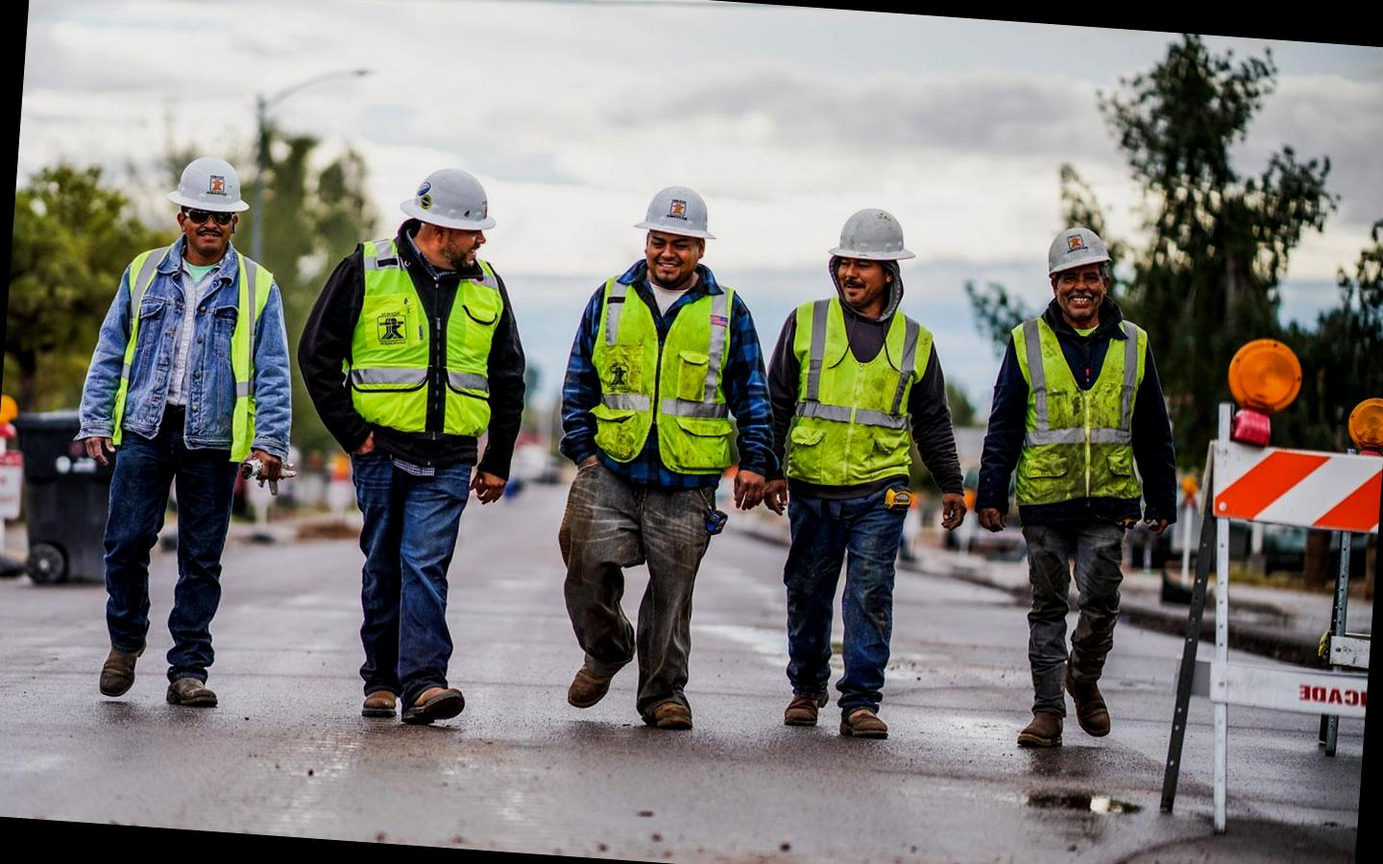helmet: (817, 203, 929, 290), (391, 174, 504, 259), (1026, 217, 1125, 300), (626, 186, 720, 262), (163, 159, 252, 232)
no_vest: (109, 247, 273, 490)
person: (54, 138, 310, 715), (530, 172, 785, 738), (732, 194, 983, 759), (958, 211, 1205, 763), (305, 166, 543, 732)
